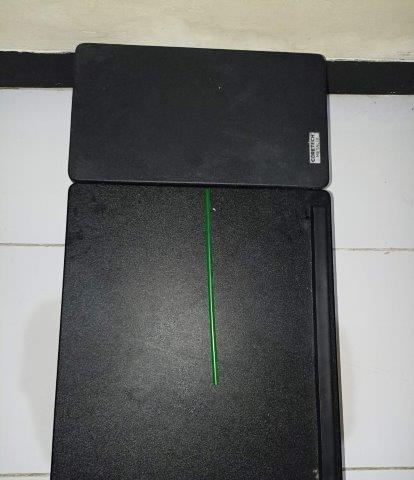sedotan: (204, 189, 219, 385)
